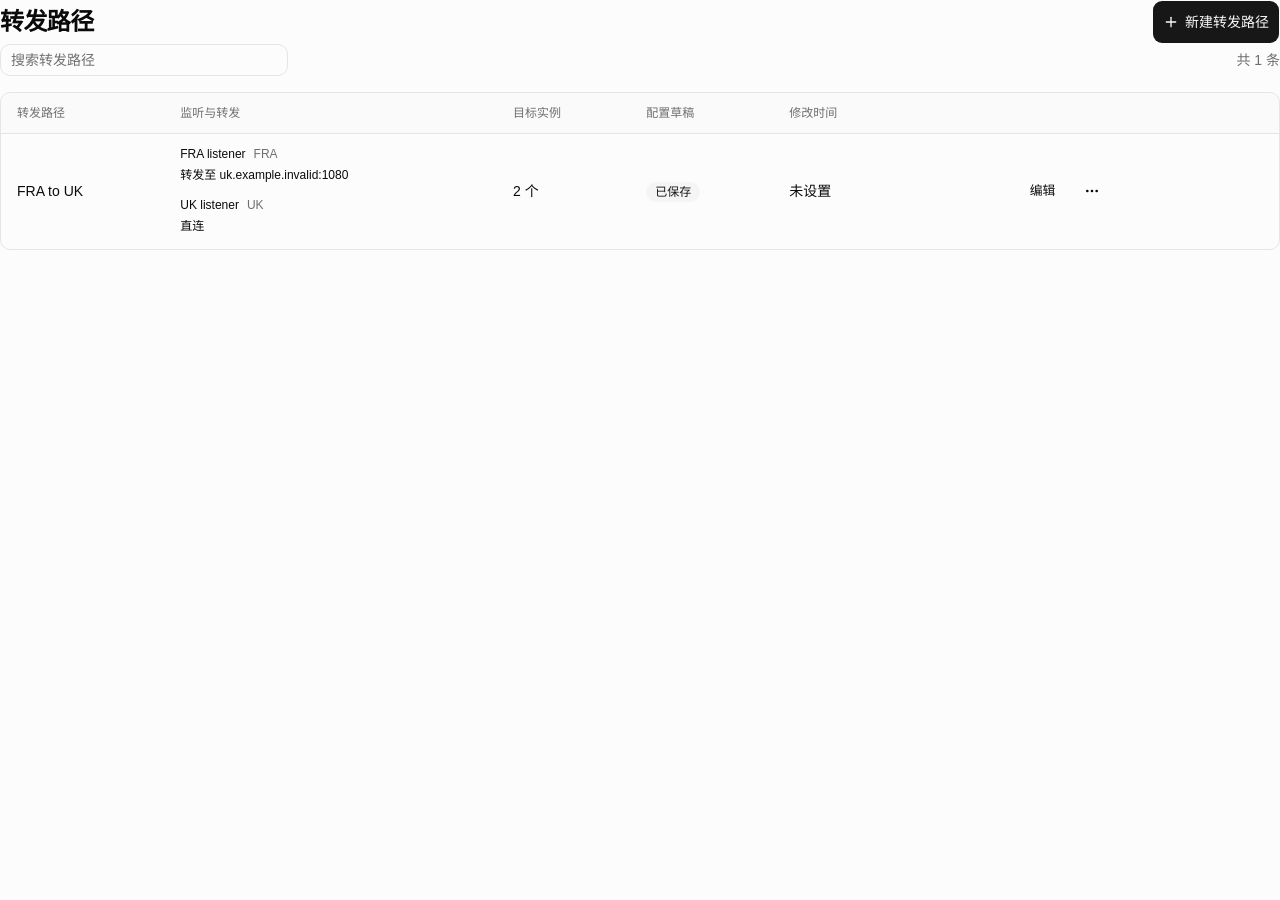
it: cancels a pending confirmation before its delayed response can update the draft
The width and height of the screenshot is (1280, 900).
Click the button with aria-label "编辑转发路径 FRA to UK".
click(1043, 191)  # box 1019,169 -> 1066,213
(page scrolled)
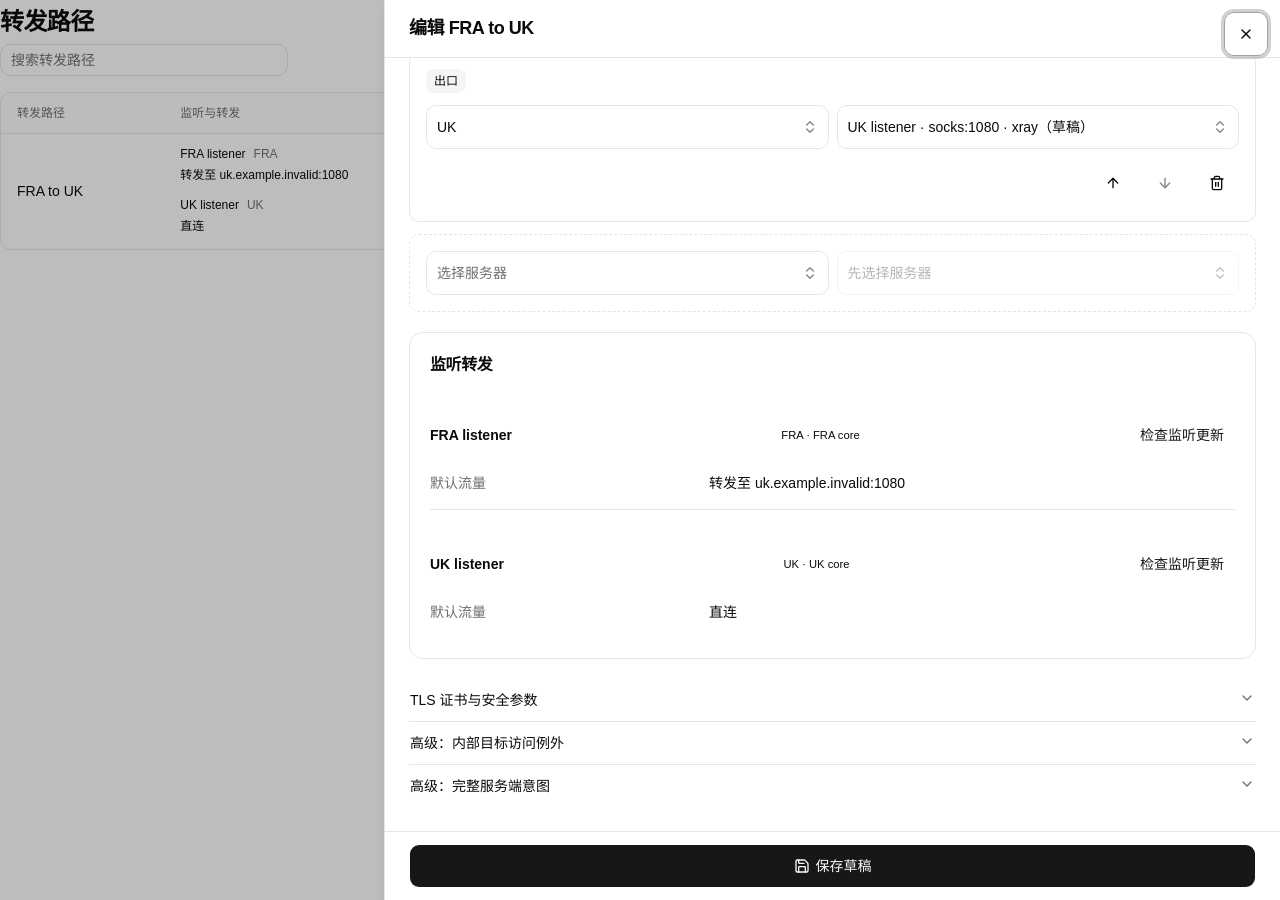
Click the button with aria-label "检查监听更新 UK listener".
click(1182, 564)  # box 1129,542 -> 1235,586
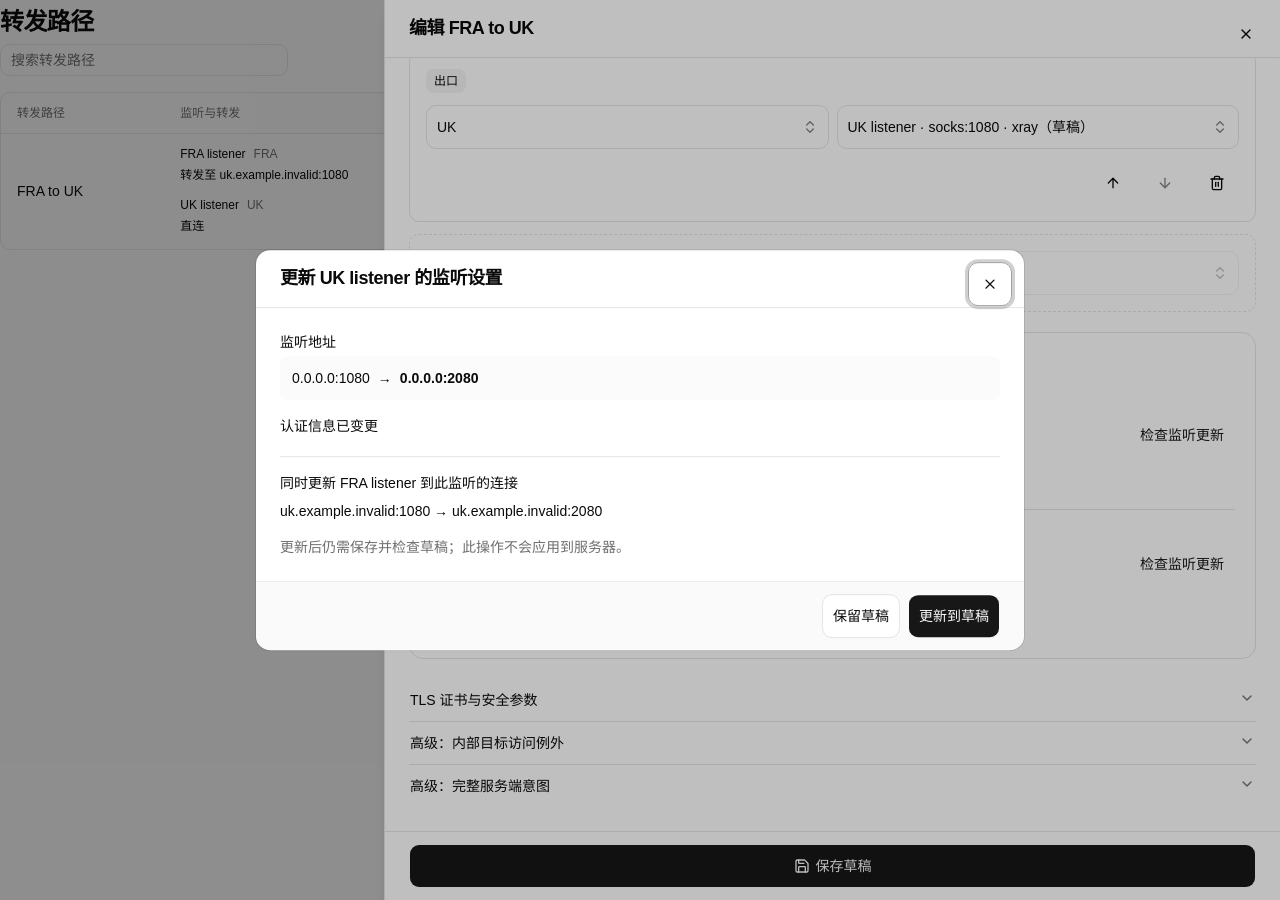
Check: the text "认证信息已变更" is shown, box 280,418 -> 378,434
Check: the button "更新到草稿" is enabled
Click the button "更新到草稿".
click(954, 616)  # box 908,594 -> 1000,638
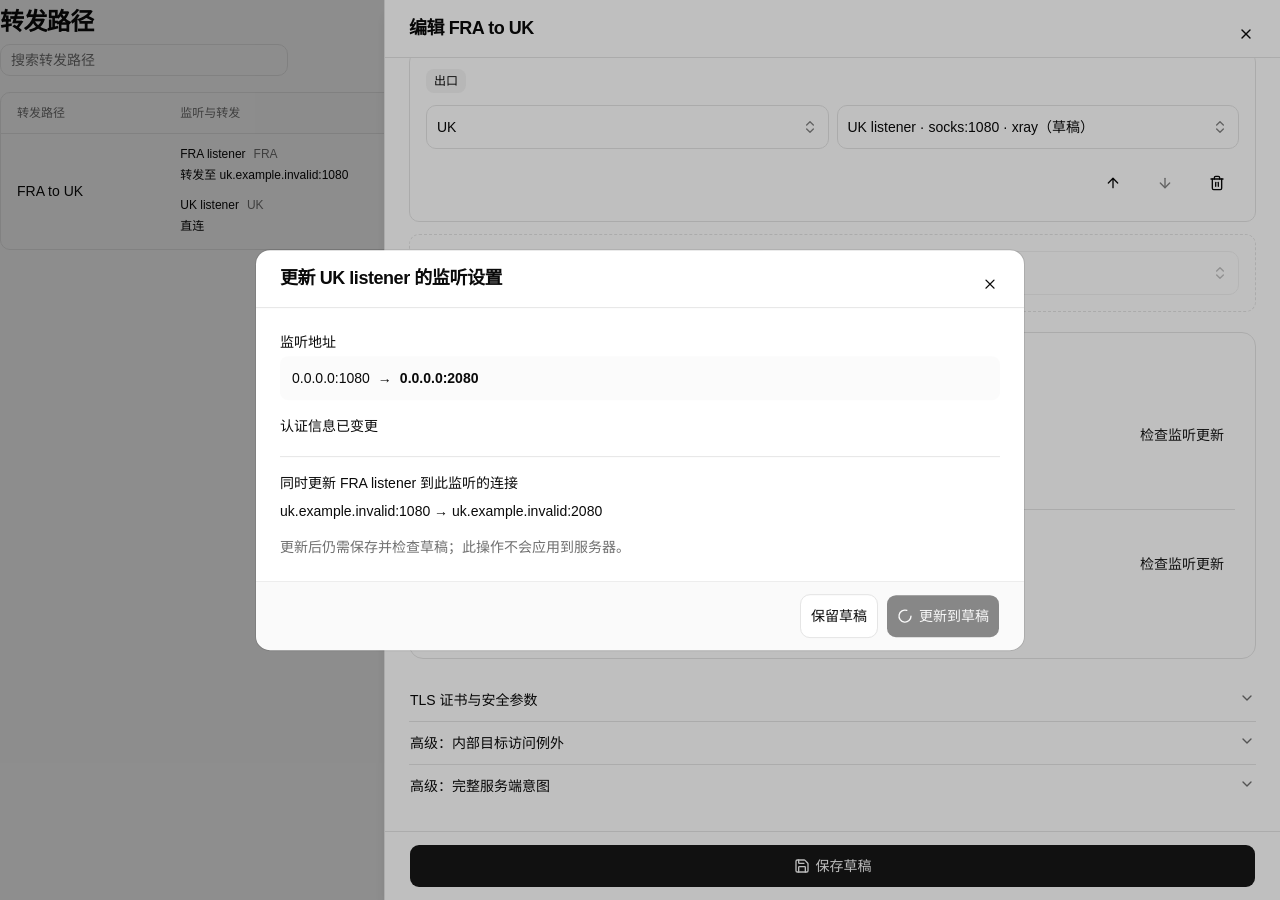
Check: the button "更新到草稿" is disabled, box 886,594 -> 1000,638
Click the button "保留草稿".
click(839, 616)  # box 800,594 -> 878,638
(page scrolled)
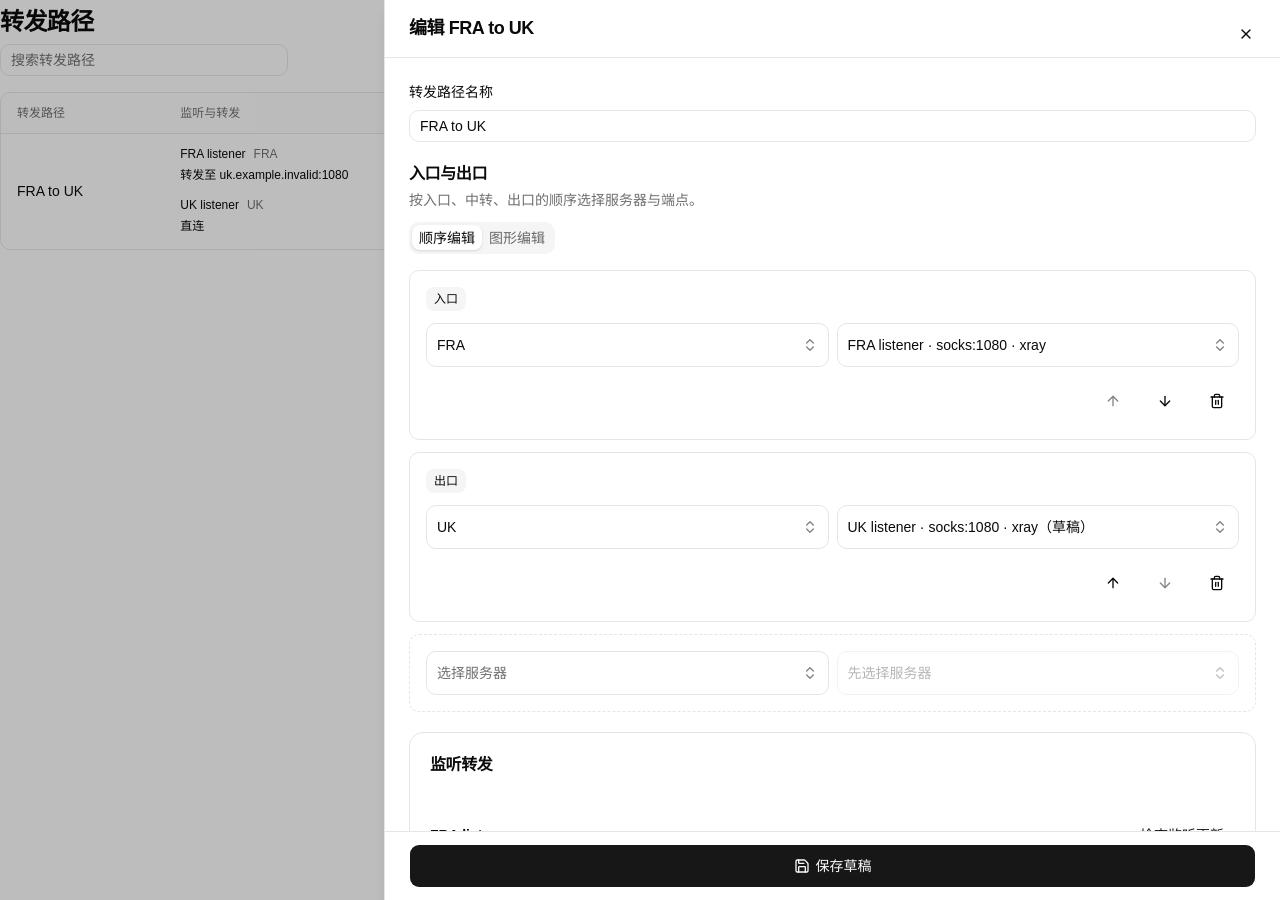
Type " retained" into the field labelled "转发路径名称".
click(832, 126); type(" retained")  # box 409,110 -> 1256,142
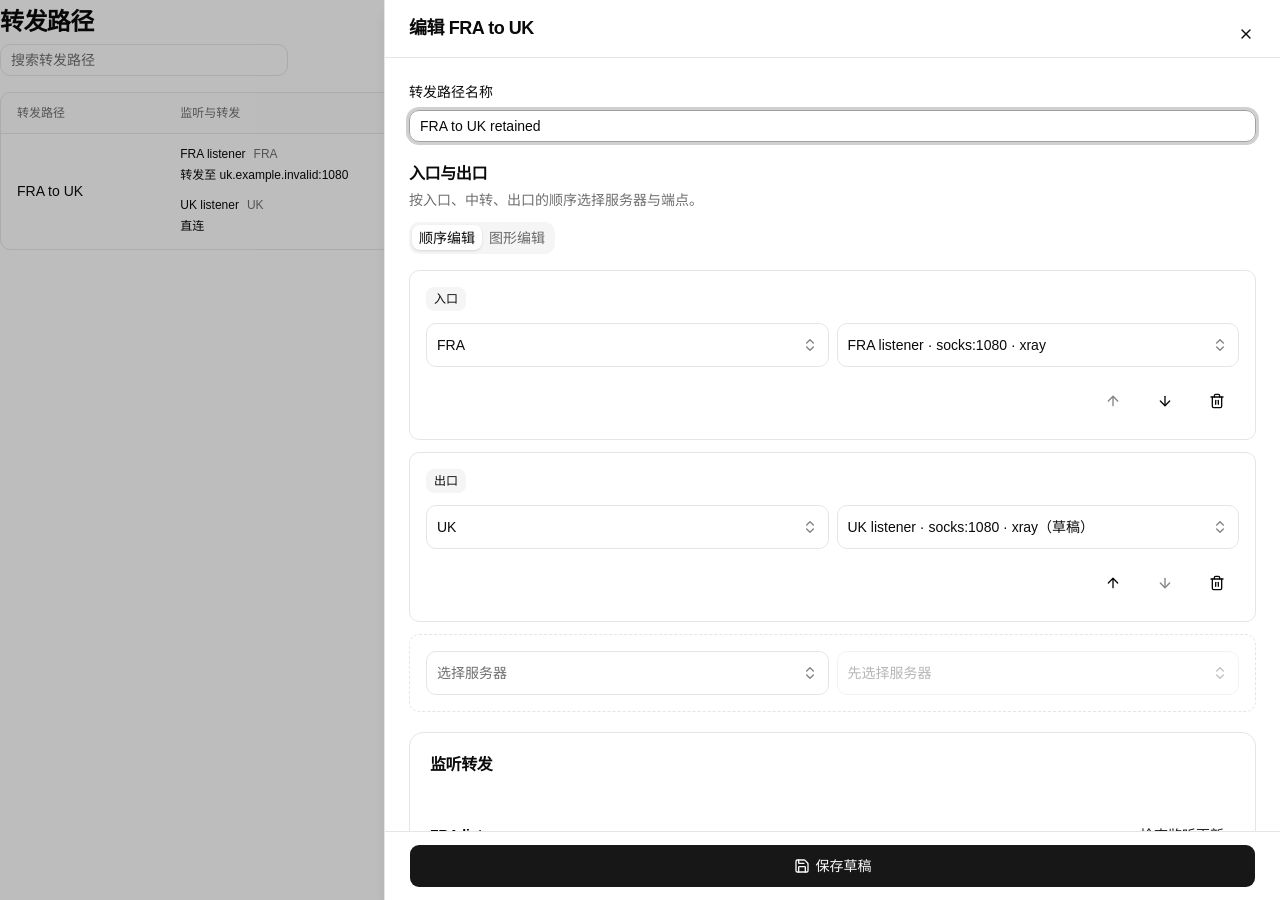
Click the button "保存草稿".
click(832, 866)  # box 409,844 -> 1256,888
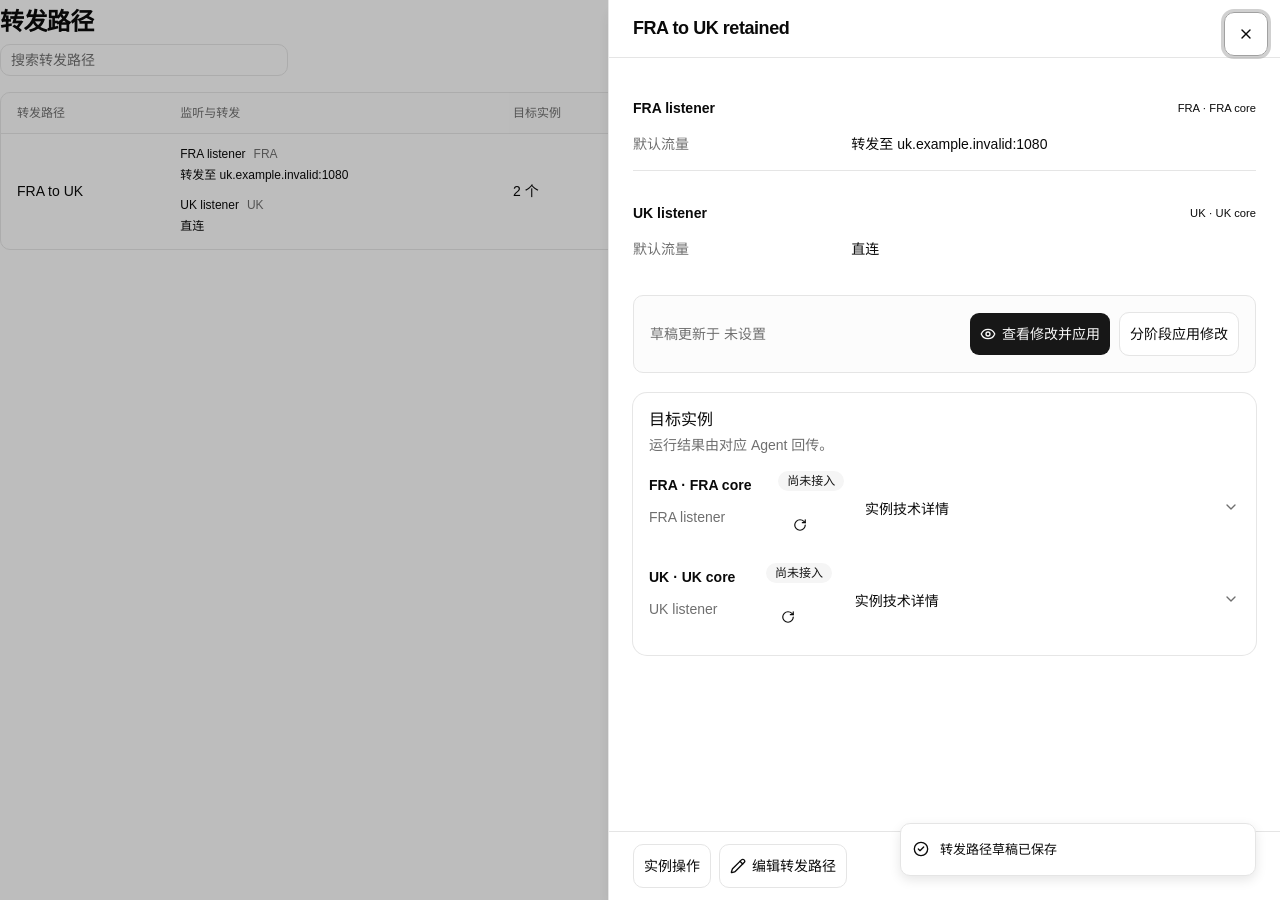
Check: the heading "FRA to UK retained" is shown, box 633,18 -> 789,38
